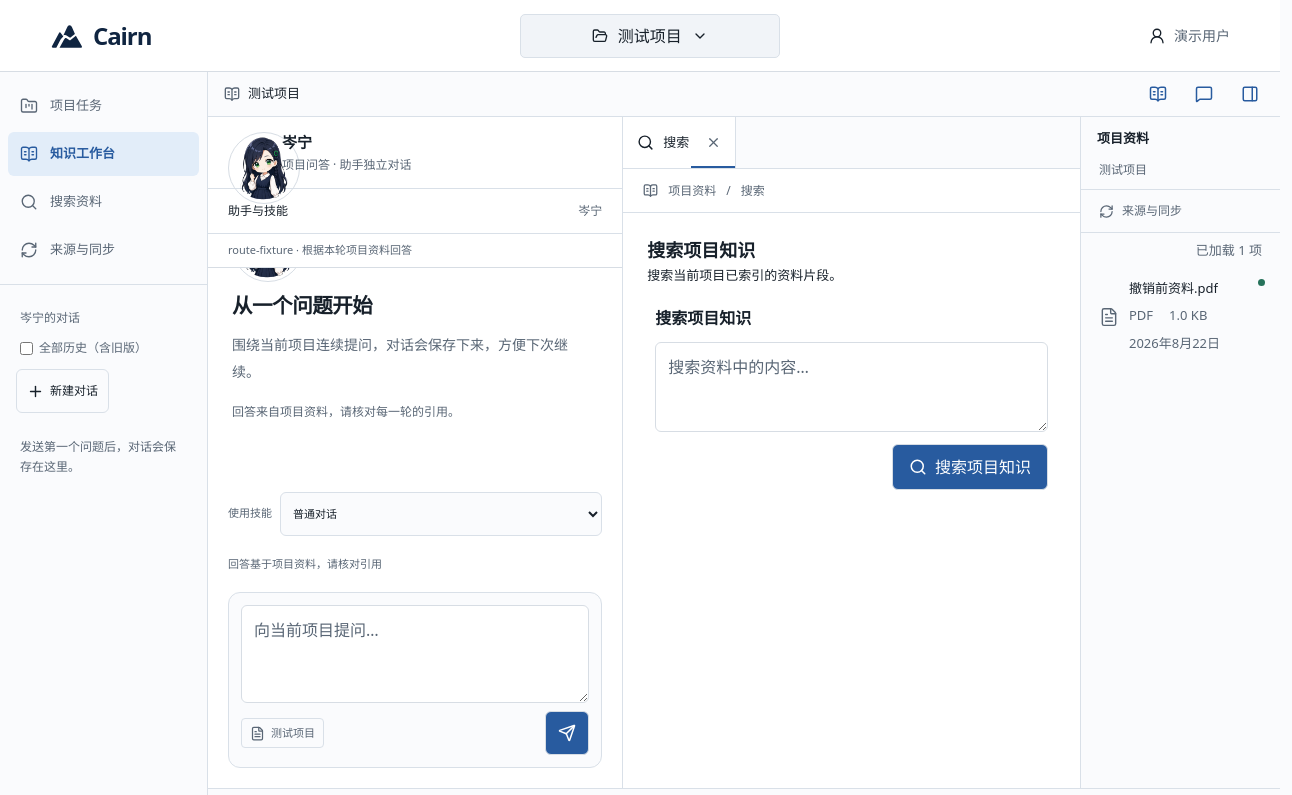
Test: a citation-only 404 keeps the project workspace and refreshes only resources
(page scrolled)
Check: the text "撤销前资料.pdf" is shown, box [1129,278,1218,298]
Type "资源撤销" into the text box labelled "搜索项目知识" at (852, 387), box [655,342,1048,432]
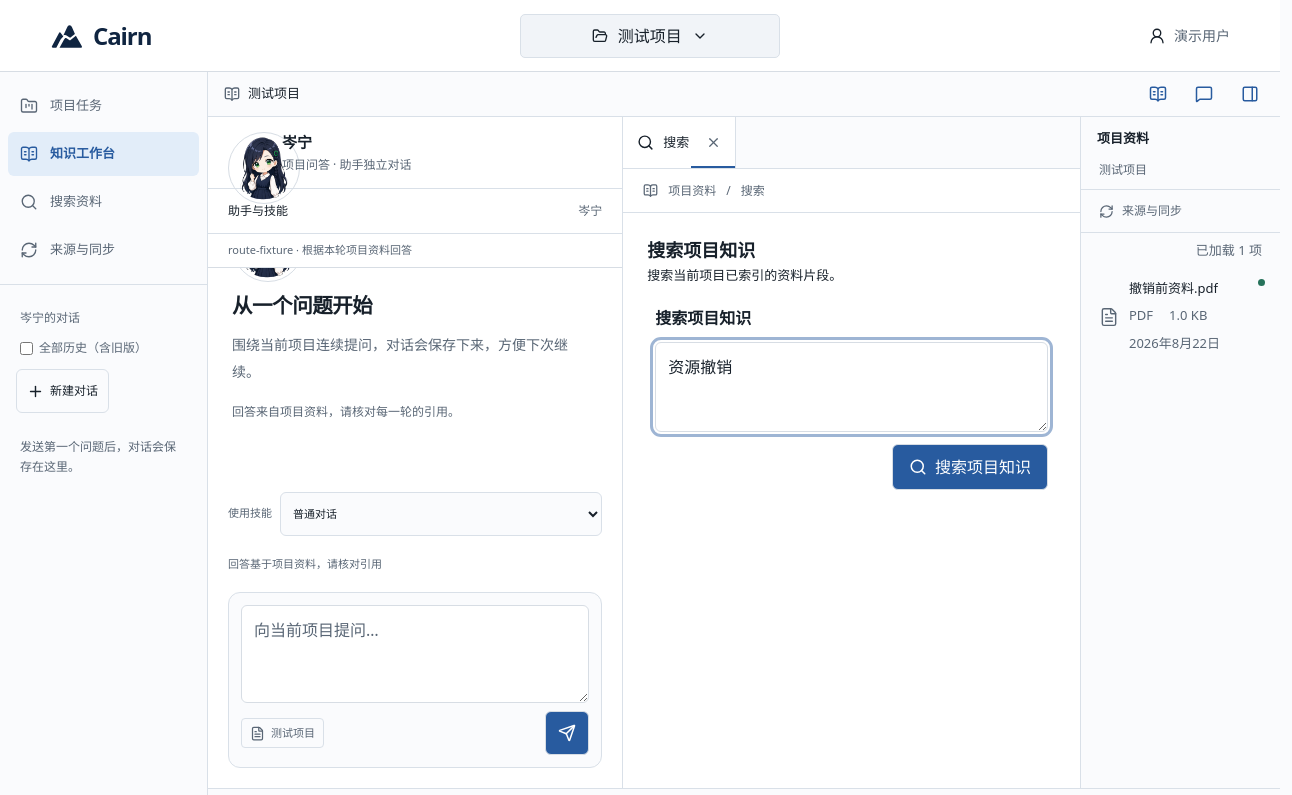
Click the button "搜索项目知识" at (970, 467), box [892,444,1048,490]
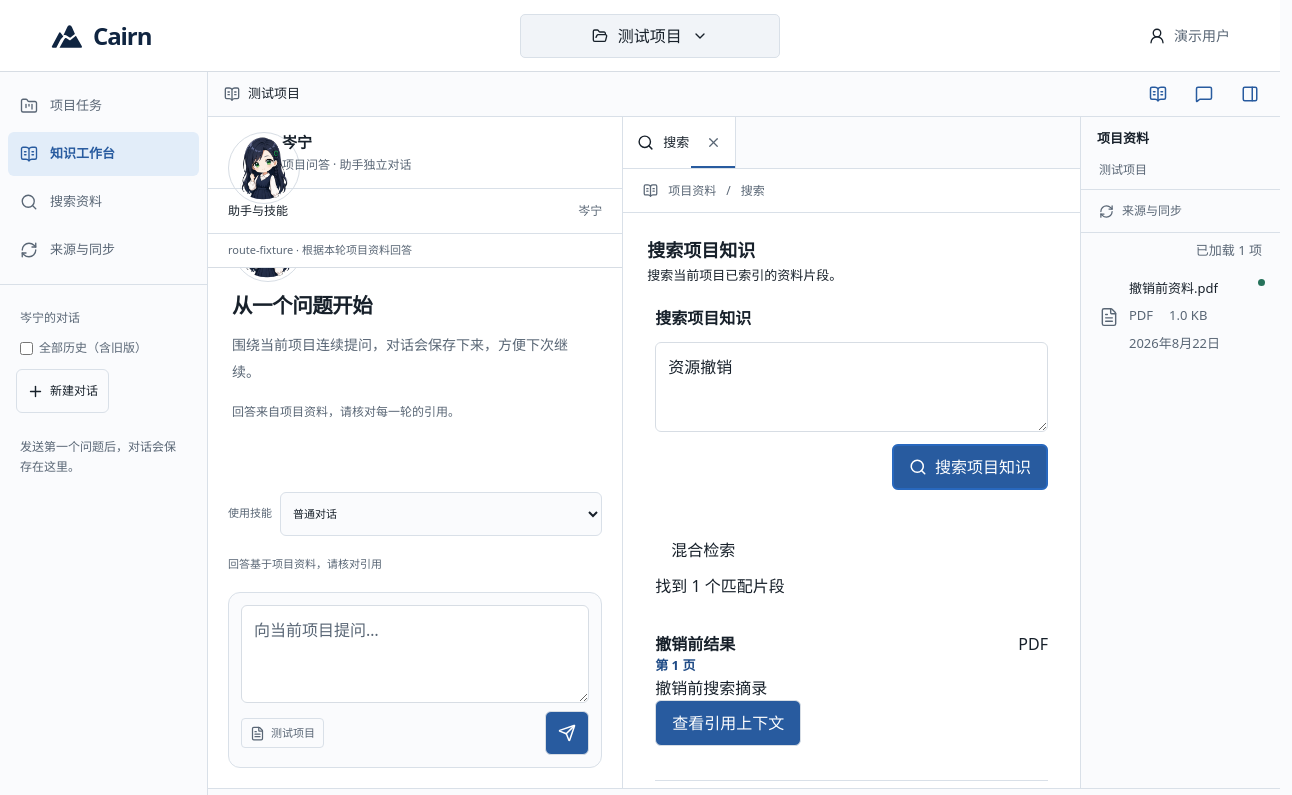
Check: the text "撤销前搜索摘录" is shown, box [655,677,767,699]
Click the button "查看引用上下文" at (728, 723), box [655,700,801,746]
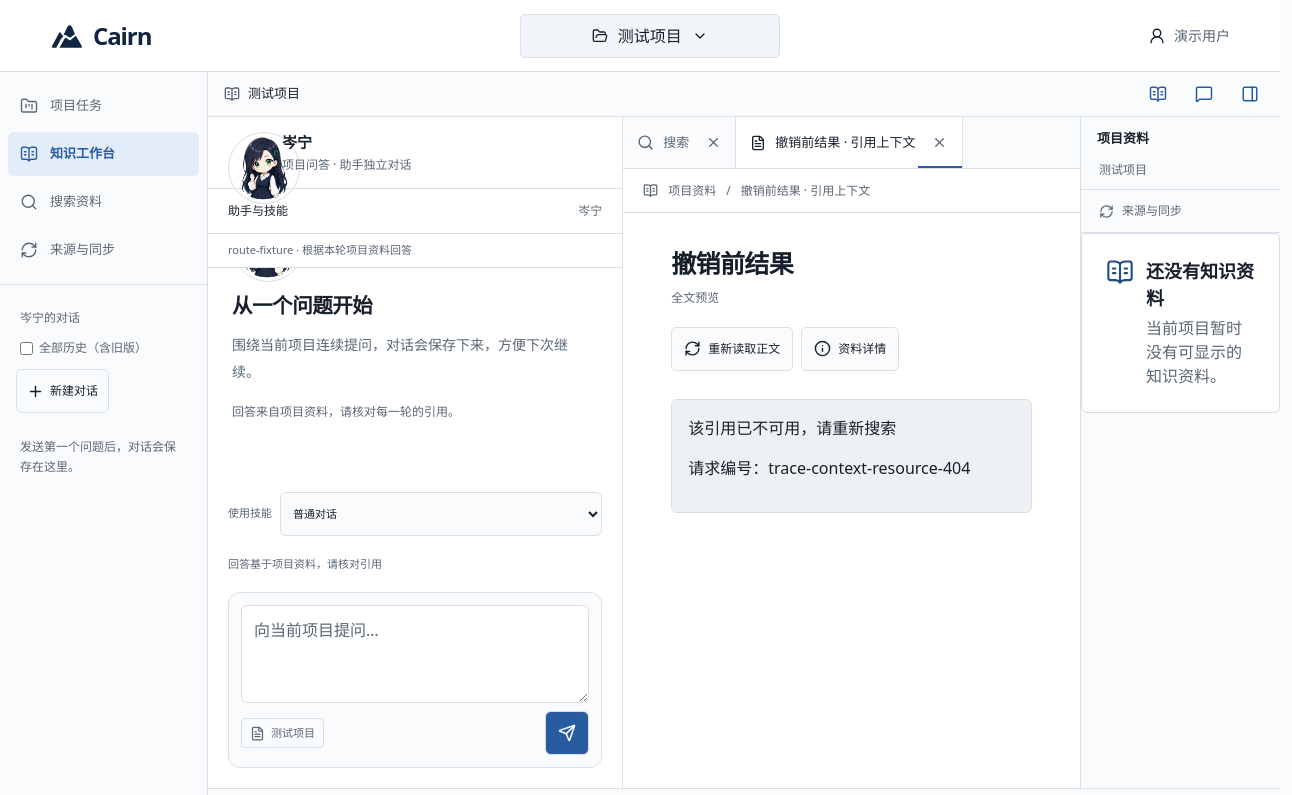
Check: the message "该引用已不可用，请重新搜索" is shown, box [688,416,896,438]
Check: the heading "还没有知识资料" is shown, box [1146,258,1255,312]
Click the tab "搜索" at (657, 142), box [623,117,691,168]
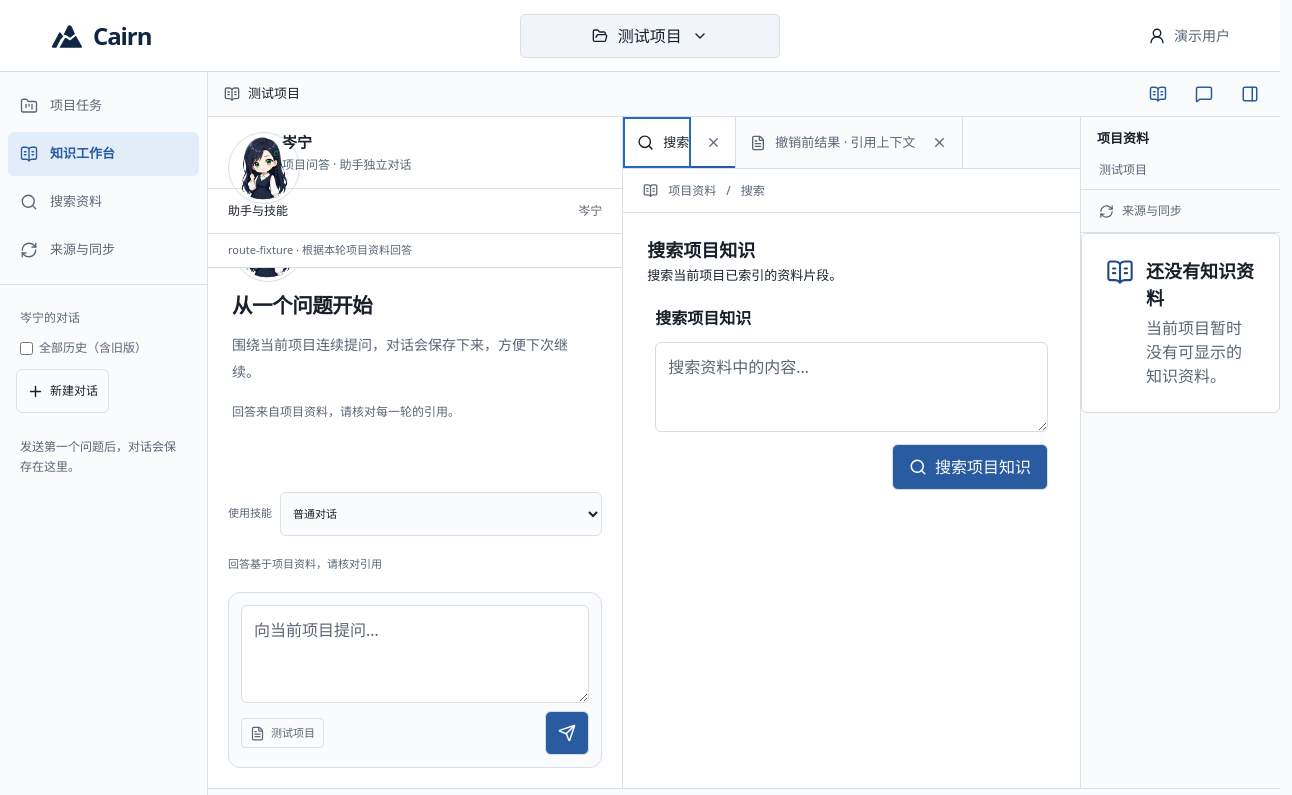
Check: the text "撤销前搜索摘录" is not shown
Check: the text box labelled "搜索项目知识" is shown, box [655,342,1048,432]
